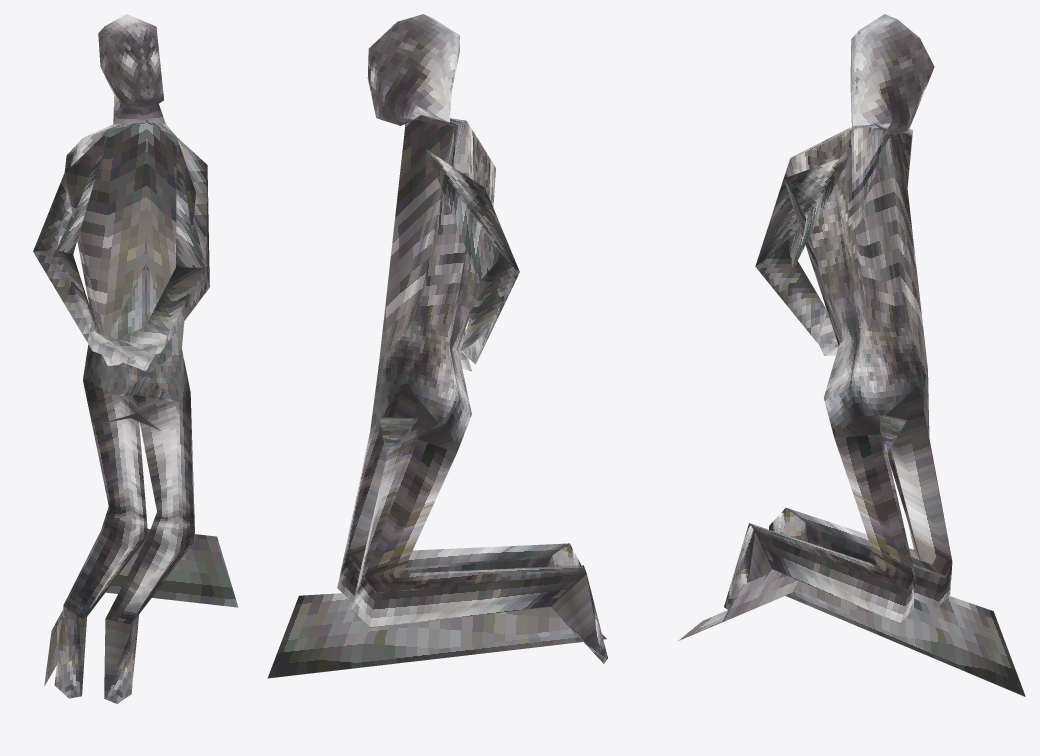
File: ps2_save-icons_obscure.glb
The picture shows the model from 3 angles, left to right: view 1: azimuth 30°, elevation 25°; view 2: azimuth 150°, elevation 25°; view 3: azimuth 270°, elevation 25°; orthographic projection. The views are drawn at different scales.
Parts seen in each view (by area): view 1: obscure.ico; view 2: obscure.ico; view 3: obscure.ico.
Part boxes in pixels (x1,y1,x2,y2): obscure.ico: (33,14,238,703); obscure.ico: (267,14,607,678); obscure.ico: (678,14,1025,696).
Bounding box in the file's own units: 2.38 × 5 × 2.4.
Materials: 1 (1 with a texture image).
